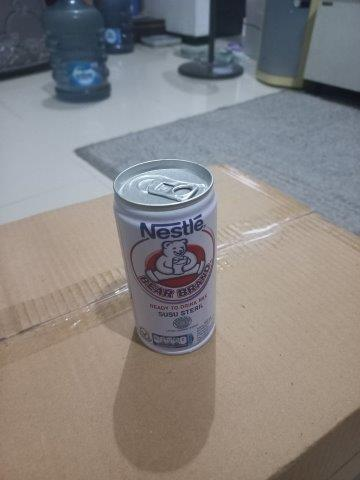kaleng: (112, 158, 217, 354)
kardus: (2, 162, 360, 480)
